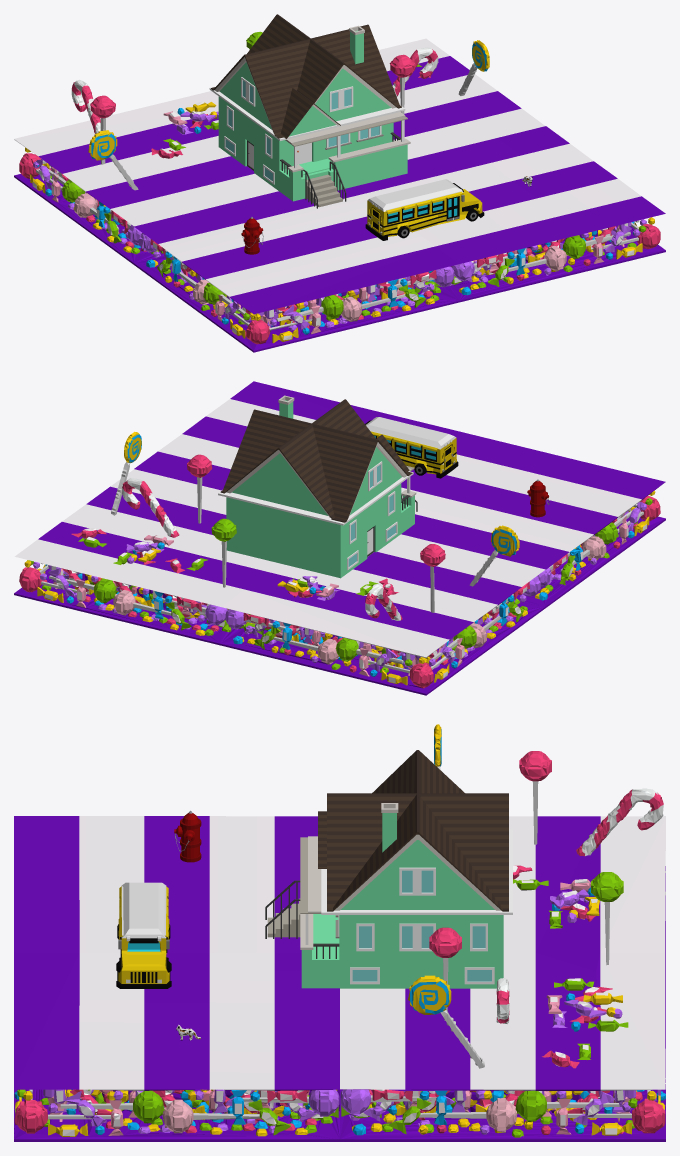
3 views of the same model, one above another, from view 1: azimuth 30°, elevation 25°; view 2: azimuth 150°, elevation 25°; view 3: azimuth 270°, elevation 25° (orthographic). The views are drawn at different scales.
Parts seen in each view (by area): view 1: TERRAIN_CANDY, Cube.352, VEHICLES_SCHOOL_BUS, OBJRANDOM_FIRE_HYDRANT; view 2: TERRAIN_CANDY, Cube.352, VEHICLES_SCHOOL_BUS, OBJRANDOM_FIRE_HYDRANT; view 3: TERRAIN_CANDY, Cube.352, VEHICLES_SCHOOL_BUS, OBJRANDOM_FIRE_HYDRANT.
Boxes of the visible parts, x1,y1,x2,y2 form: TERRAIN_CANDY: (14,31,665,352); Cube.352: (209,14,410,208); VEHICLES_SCHOOL_BUS: (365,179,484,240); OBJRANDOM_FIRE_HYDRANT: (241,217,263,254); TERRAIN_CANDY: (14,381,665,695); Cube.352: (218,395,417,578); VEHICLES_SCHOOL_BUS: (365,417,458,478); OBJRANDOM_FIRE_HYDRANT: (527,479,549,517); TERRAIN_CANDY: (14,724,665,1141); Cube.352: (265,750,512,988); VEHICLES_SCHOOL_BUS: (116,882,171,988); OBJRANDOM_FIRE_HYDRANT: (174,810,201,862).
Bounding box in the file's own units: 4059 × 1600 × 4000.
32 materials, 2 textured.
